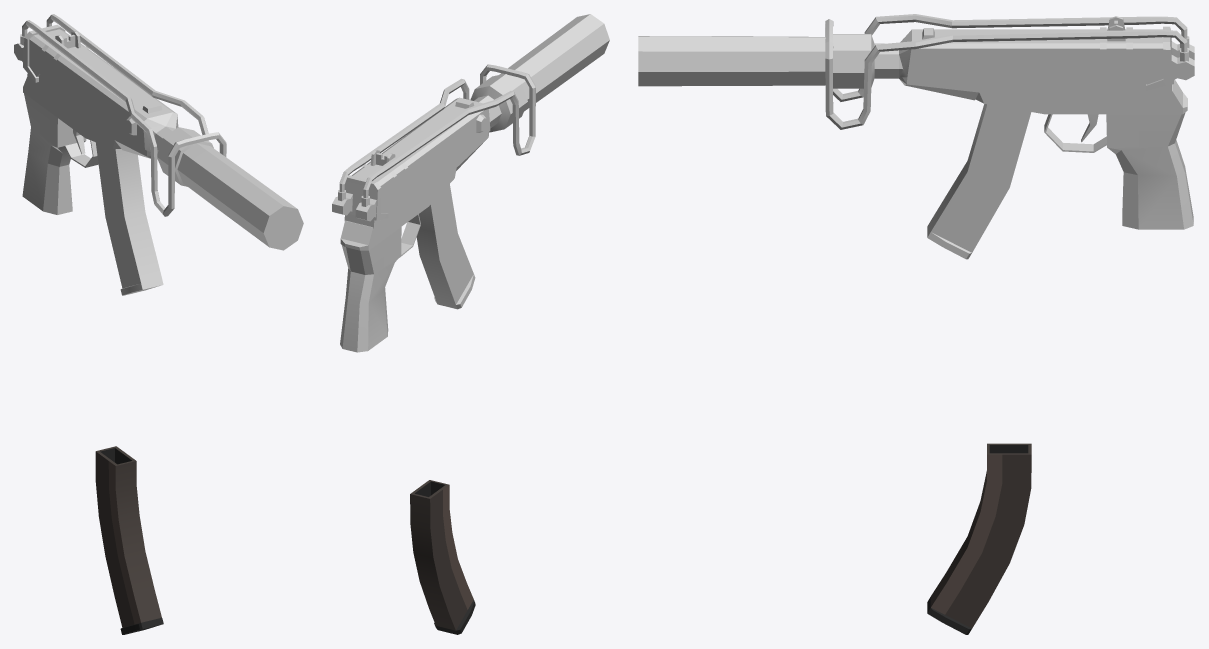
File: Skorpion_Gun.glb
3 views of the same model, side by side, from view 1: azimuth 30°, elevation 25°; view 2: azimuth 150°, elevation 25°; view 3: azimuth 270°, elevation 25° (orthographic). The views are drawn at different scales.
Visible parts, largest first — view 1: Vz61SkorpionLowPoly, Vz61SkorpionMag; view 2: Vz61SkorpionLowPoly, Vz61SkorpionMag; view 3: Vz61SkorpionLowPoly, Vz61SkorpionMag.
Part boxes in pixels (box(x1,y1,x2,y2)): Vz61SkorpionLowPoly: box(14, 14, 303, 295); Vz61SkorpionMag: box(95, 446, 163, 634); Vz61SkorpionLowPoly: box(332, 14, 609, 352); Vz61SkorpionMag: box(410, 480, 475, 634); Vz61SkorpionLowPoly: box(638, 14, 1194, 259); Vz61SkorpionMag: box(927, 443, 1031, 634).
Bounding box in the file's own units: 0.0535 × 0.4841 × 0.4015.
Materials: 2 (1 with a texture image).
